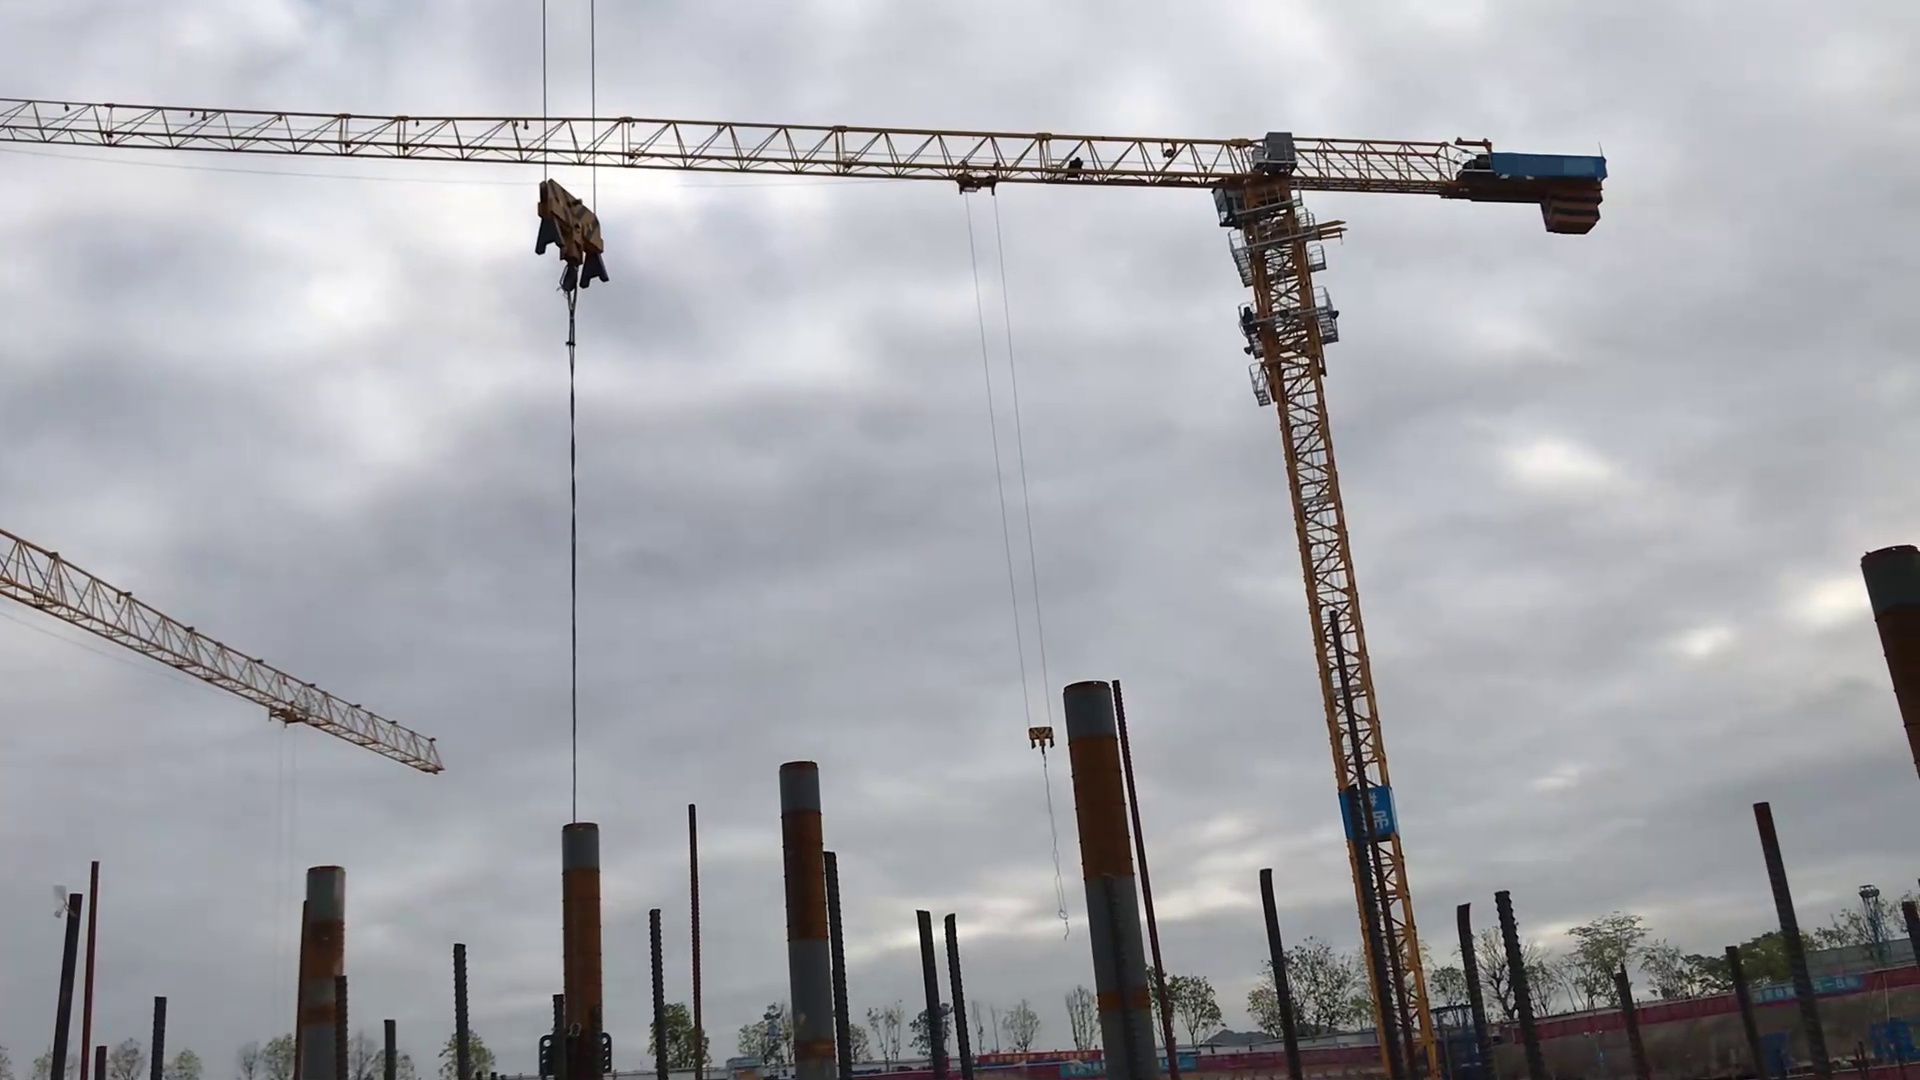hook: (530, 177, 615, 299)
